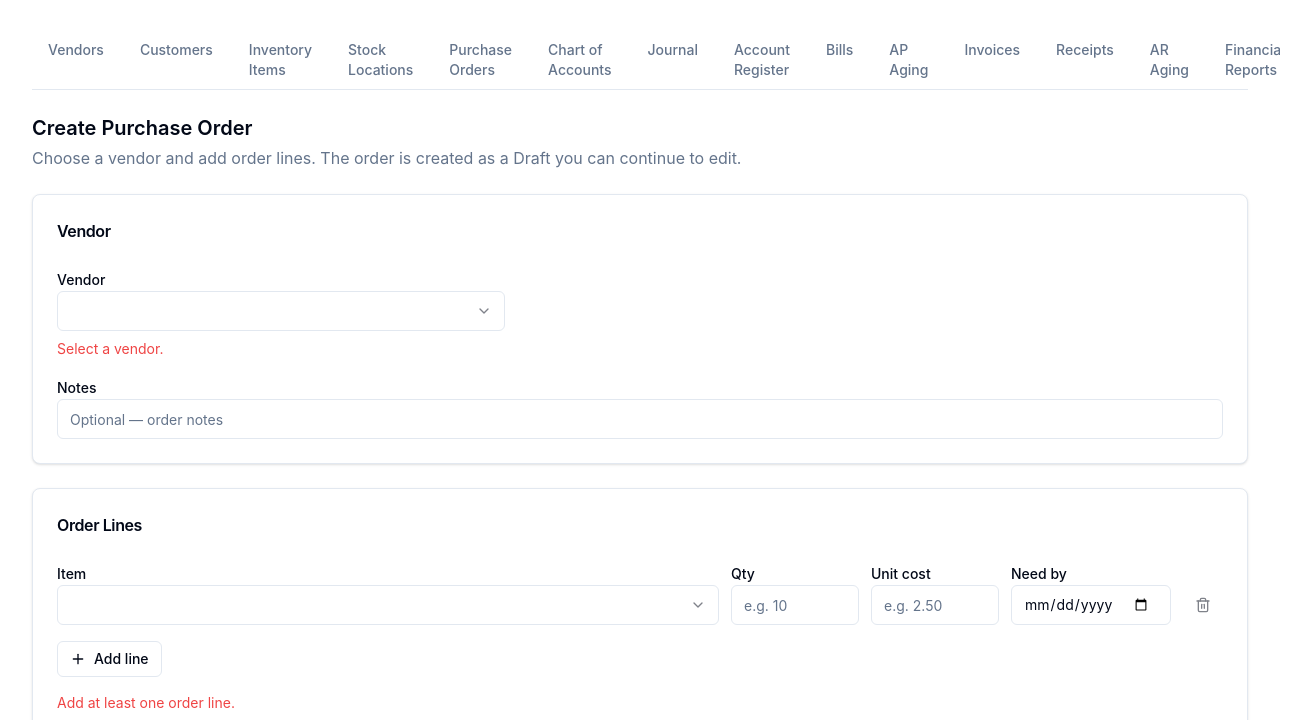
it: PurchaseOrderCreate screen › excludes inactive items from the line item Select
The width and height of the screenshot is (1292, 720).
Expected: the heading "Create Purchase Order" is shown, [32,116,252,140]
Click the dropdown named "Item for line 1" at [698, 605], box [57,585,719,625]
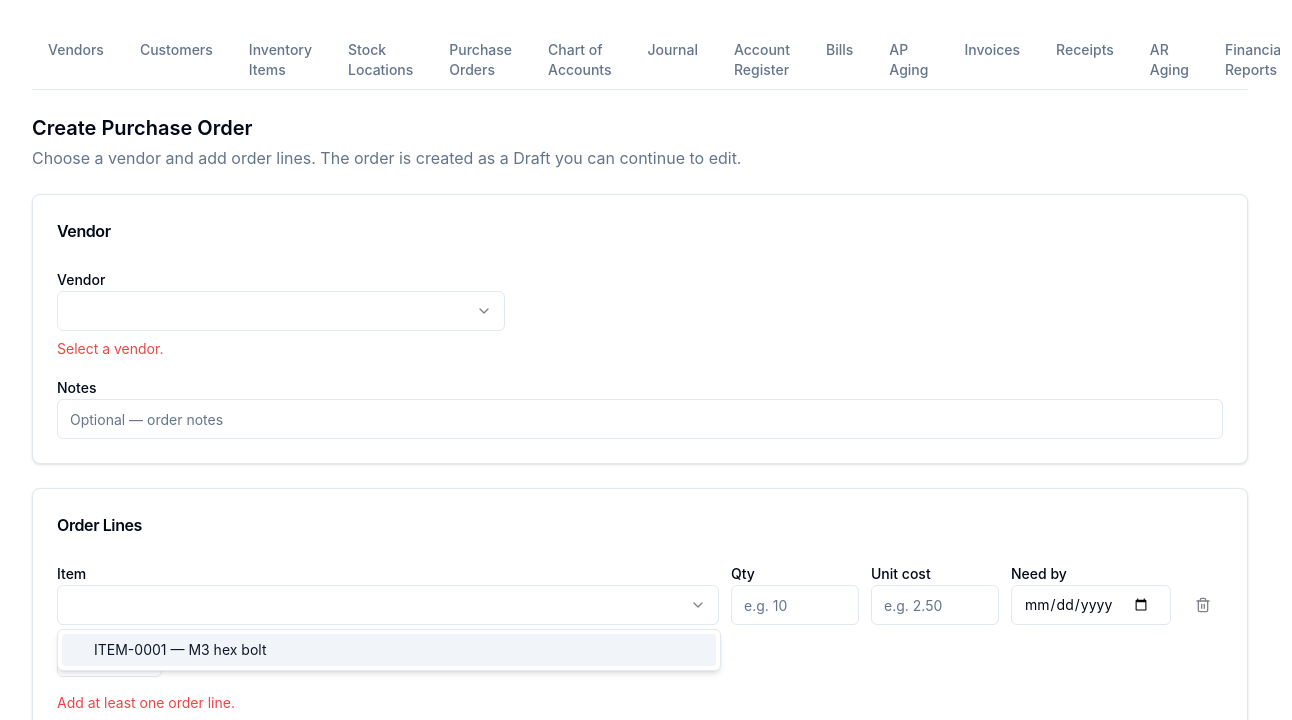
Expected: the option "ITEM-0001 — M3 hex bolt" is shown, [62,634,716,666]
